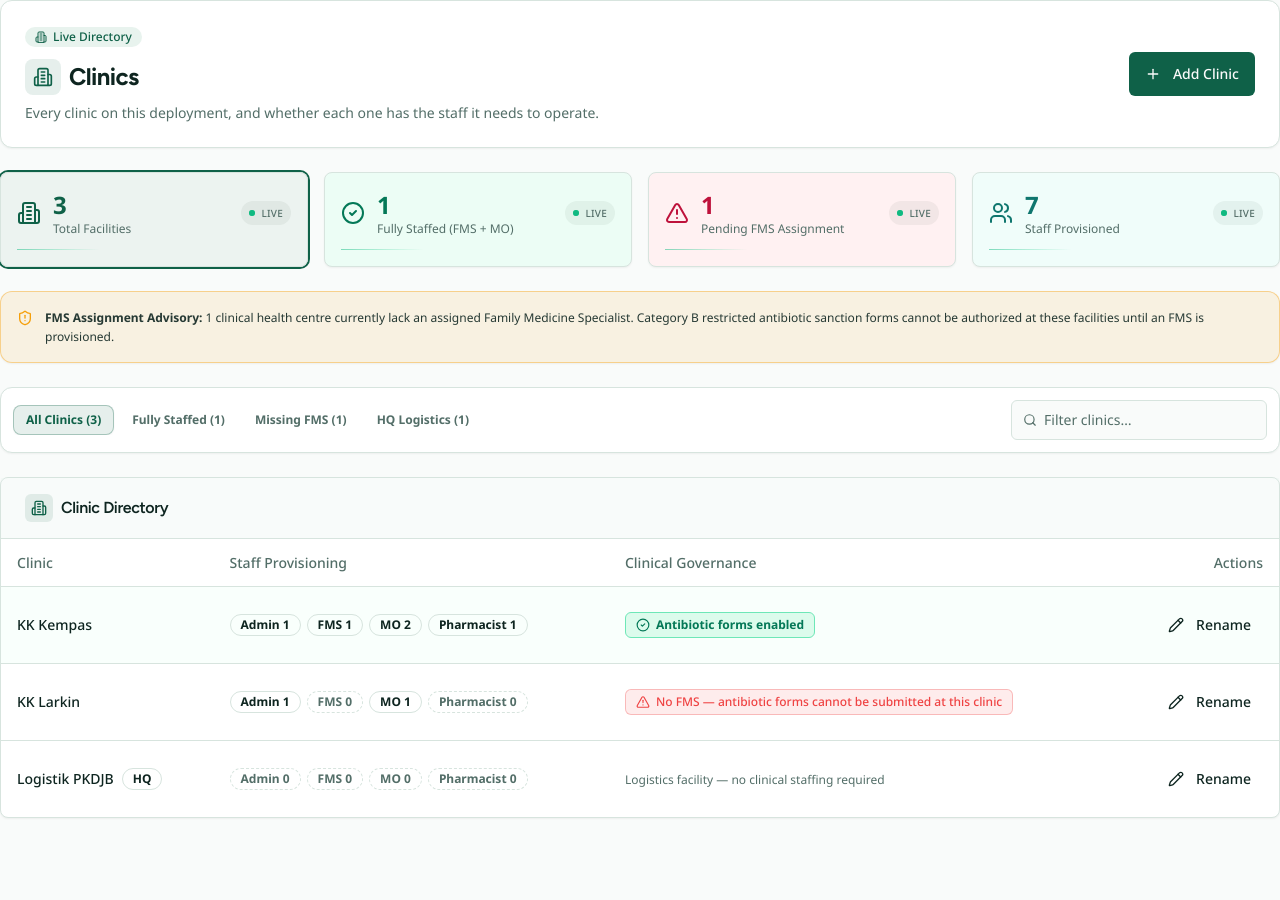
Test: Clinics — create and rename › will not save a rename that changes nothing
Click the button "Rename" in the row of "KK Larkin" at [1210, 702], box [1156, 680, 1263, 724]
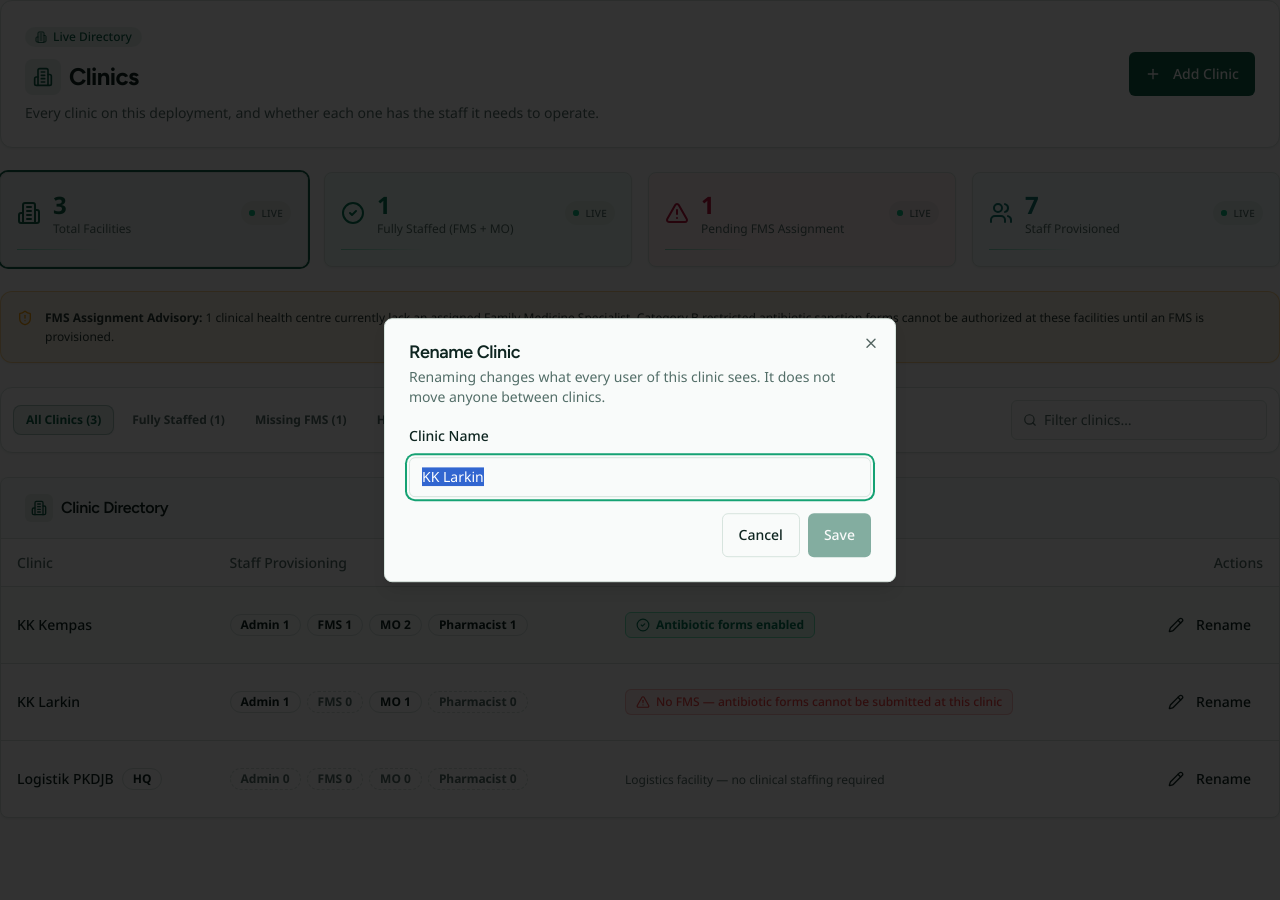
Expected: the button "Save" is disabled, [808, 513, 871, 557]
